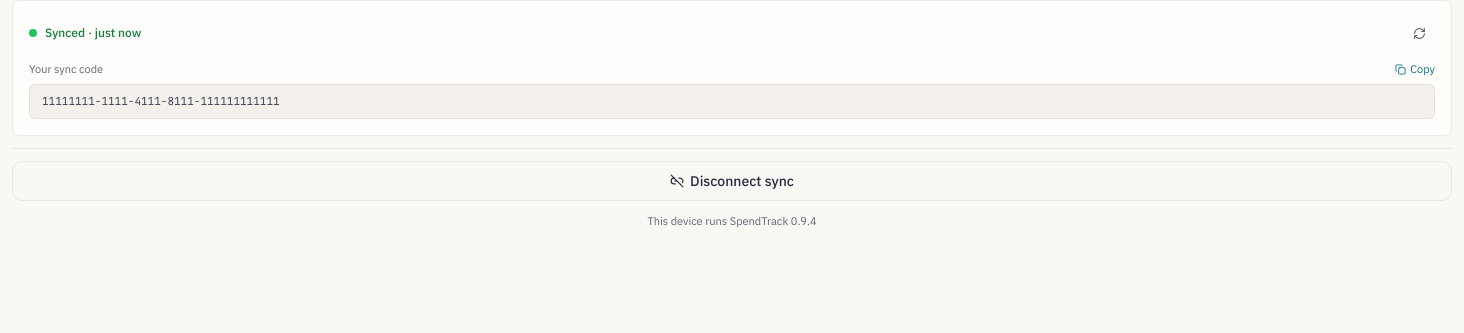
Scenario: Disconnect › states what disconnecting does
Click the button "Disconnect sync". click: (732, 181)
box: [12,161,1452,201]
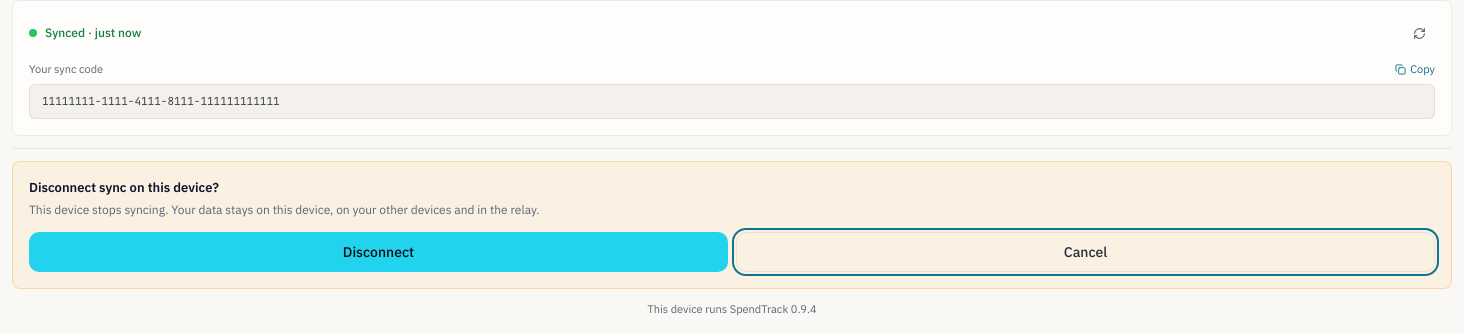
Expected: the text "This device stops syncing. Your data stays on this device, on your other devices and in the relay." is shown, [29,202,540,217]
